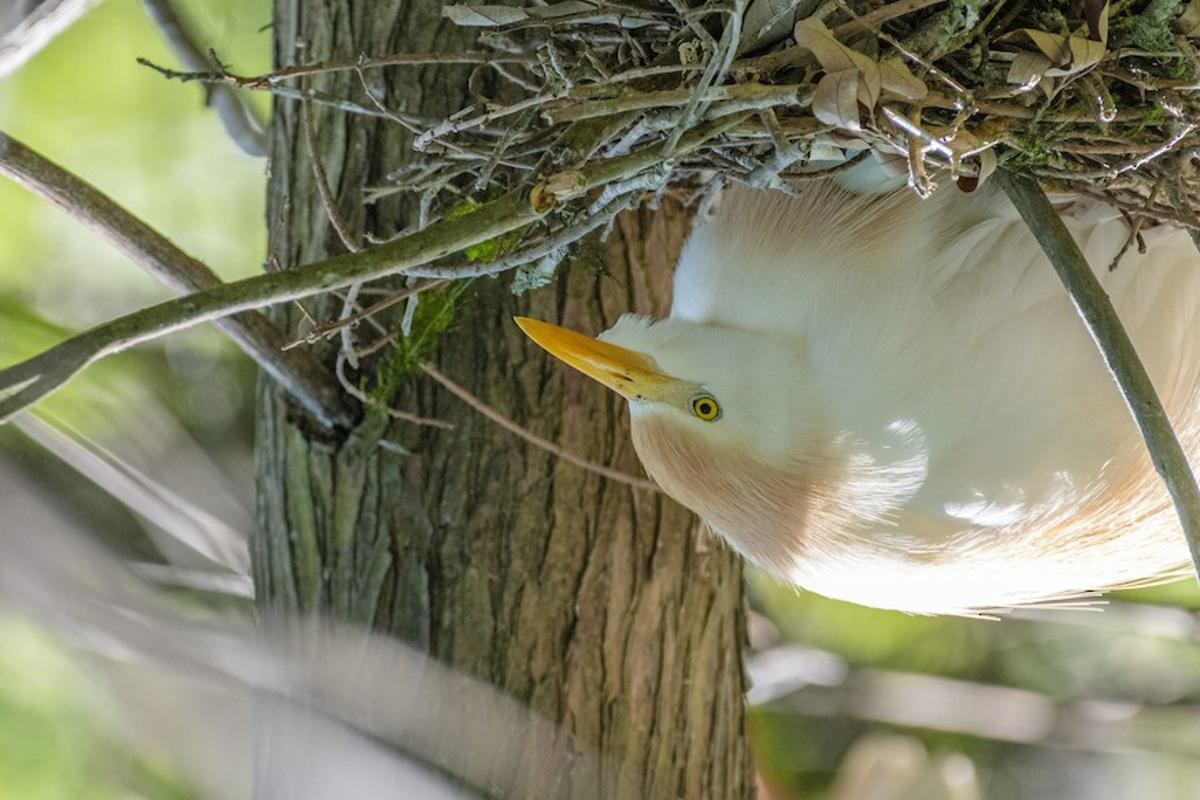egret: (521, 42, 1200, 642)
